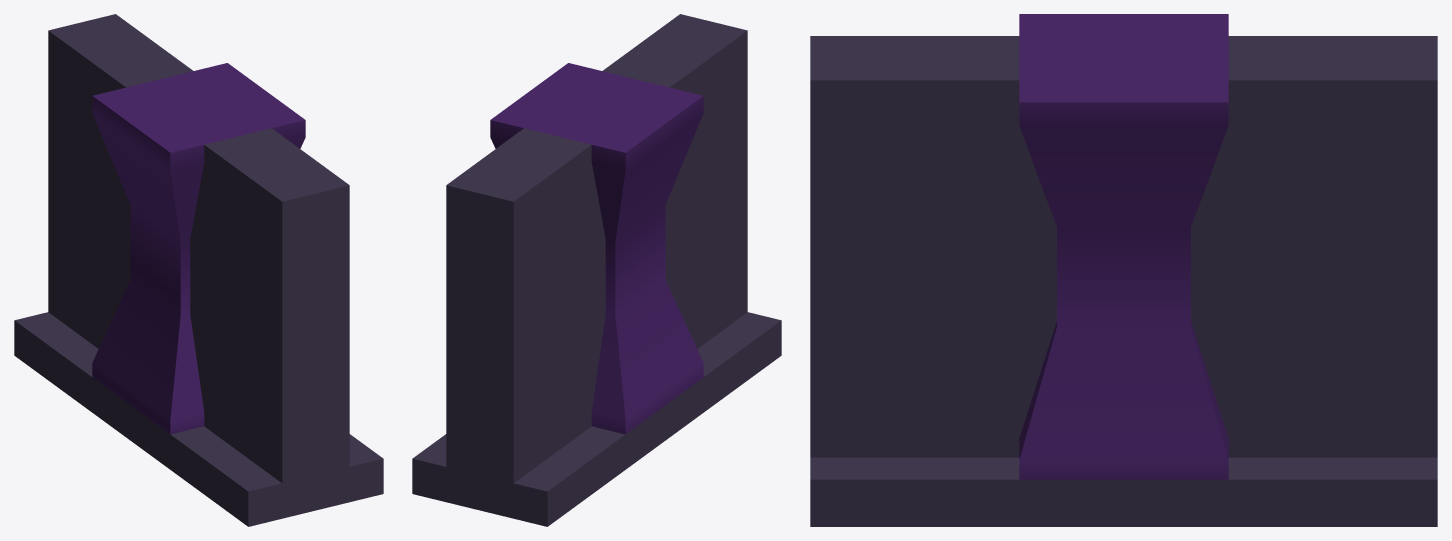
Rendered from StraightWall.fbx.
The picture shows the model from 3 angles, left to right: view 1: azimuth 30°, elevation 25°; view 2: azimuth 150°, elevation 25°; view 3: azimuth 270°, elevation 25°; orthographic projection. The views are drawn at different scales.
Visible parts, largest first — view 1: StraightWall; view 2: StraightWall; view 3: StraightWall.
Boxes of the visible parts, x1,y1,x2,y2 form: StraightWall: (14,14,383,526); StraightWall: (412,14,781,526); StraightWall: (810,14,1437,526).
Bounding box in the file's own units: 200 × 448 × 600.
